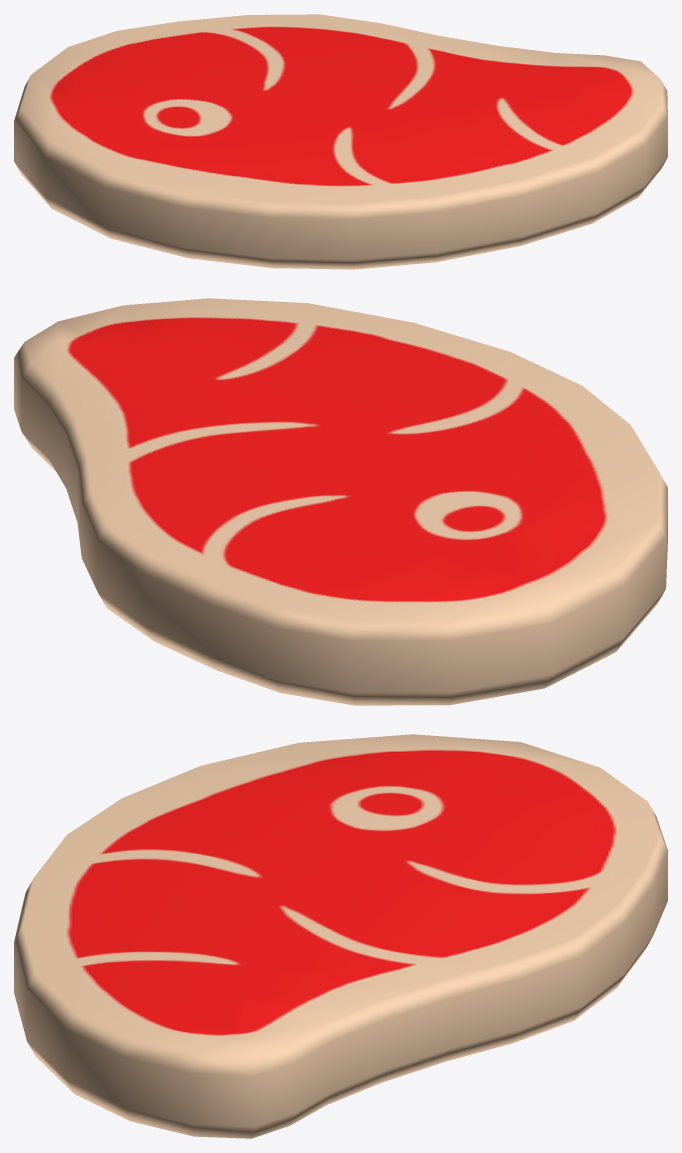
File: Steak_Mesh.fbx
The picture shows the model from 3 angles, top to bottom: view 1: azimuth 30°, elevation 25°; view 2: azimuth 150°, elevation 25°; view 3: azimuth 270°, elevation 25°; orthographic projection. The views are drawn at different scales.
Parts seen in each view (by area): view 1: Steak_Mesh; view 2: Steak_Mesh; view 3: Steak_Mesh.
Boxes of the visible parts, x1,y1,x2,y2 form: Steak_Mesh: [14, 14, 667, 269]; Steak_Mesh: [14, 298, 667, 705]; Steak_Mesh: [14, 734, 667, 1138].
Bounding box in the file's own units: 7.04 × 0.888 × 5.9.
